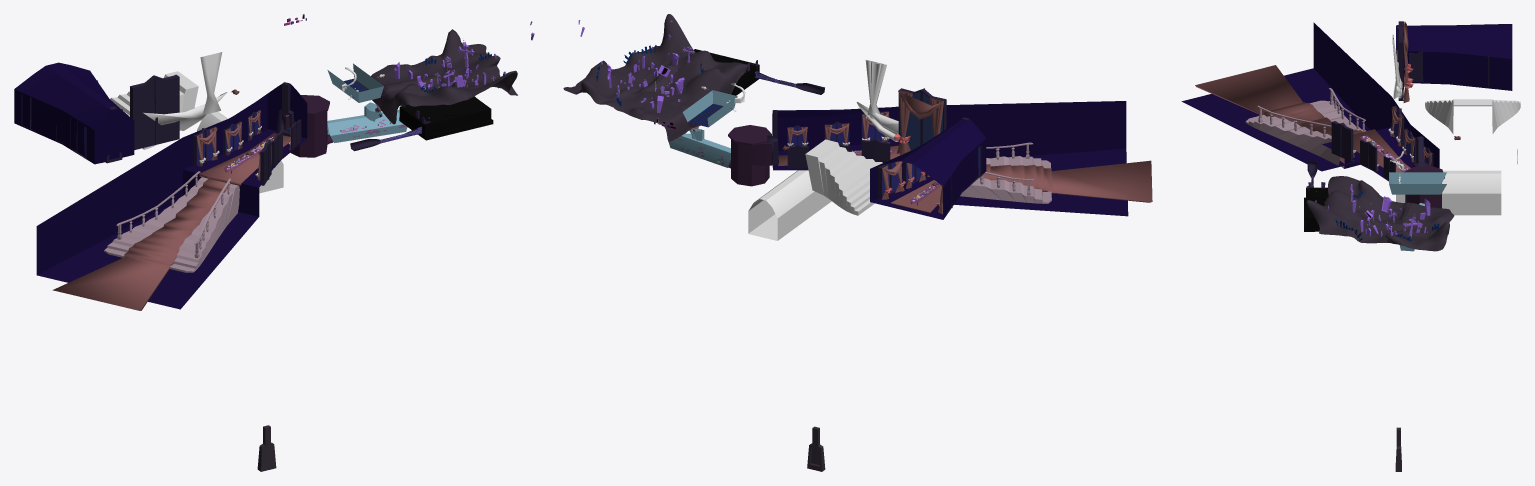
Rendered from tokotoko_no_stairs_3FBX.fbx.
The picture shows the model from 3 angles, left to right: view 1: azimuth 30°, elevation 25°; view 2: azimuth 150°, elevation 25°; view 3: azimuth 270°, elevation 25°; orthographic projection. The views are drawn at different scales.
Visible parts, largest first — view 1: ÄLÄPOSITATÄTÄVITTU, entire_diningroom', table.001where toeat.004, graveyardÄLÄPOSTAAAAAAA, Cube, Cube.108, Cube.055, Cube.007, table.001where toeat.003, Cylinder.002, table.001where toeat.002, roomkitchen_jic (+5 smaller); view 2: ÄLÄPOSITATÄTÄVITTU, graveyardÄLÄPOSTAAAAAAA, entire_diningroom', table.001where toeat.004, Cube.018, table.001where toeat.001, Cube.108, Cube, Cylinder.002, table.001where toeat.002, Cube.007, roomkitchen_jic (+2 smaller); view 3: ÄLÄPOSITATÄTÄVITTU, graveyardÄLÄPOSTAAAAAAA, entire_diningroom', table.001where toeat.004, Cube, table.001where toeat.001, Cube.018, table.001where toeat.002, roomkitchen_jic, table.001where toeat.003, Cube.108, Cylinder.002 (+1 smaller).
Part boxes in pixels (left/top/right/bottom): ÄLÄPOSITATÄTÄVITTU: left=36, top=82, right=307, bottom=309; entire_diningroom': left=14, top=62, right=134, bottom=164; table.001where toeat.004: left=52, top=133, right=290, bottom=310; graveyardÄLÄPOSTAAAAAAA: left=371, top=21, right=534, bottom=124; Cube: left=104, top=171, right=239, bottom=272; Cube.108: left=130, top=74, right=179, bottom=149; Cube.055: left=399, top=96, right=491, bottom=136; Cube.007: left=327, top=102, right=407, bottom=142; table.001where toeat.003: left=193, top=110, right=261, bottom=166; Cylinder.002: left=285, top=95, right=332, bottom=157; table.001where toeat.002: left=255, top=119, right=301, bottom=185; roomkitchen_jic: left=327, top=63, right=383, bottom=102; ÄLÄPOSITATÄTÄVITTU: left=767, top=101, right=1128, bottom=216; graveyardÄLÄPOSTAAAAAAA: left=563, top=14, right=747, bottom=141; entire_diningroom': left=870, top=117, right=986, bottom=219; table.001where toeat.004: left=778, top=145, right=1152, bottom=202; Cube.018: left=805, top=139, right=882, bottom=215; table.001where toeat.001: left=748, top=170, right=831, bottom=240; Cube.108: left=894, top=88, right=946, bottom=154; Cube: left=960, top=142, right=1051, bottom=203; Cylinder.002: left=728, top=125, right=771, bottom=186; table.001where toeat.002: left=787, top=111, right=889, bottom=149; Cube.007: left=668, top=128, right=730, bottom=167; roomkitchen_jic: left=682, top=90, right=737, bottom=127; ÄLÄPOSITATÄTÄVITTU: left=1181, top=22, right=1439, bottom=181; graveyardÄLÄPOSTAAAAAAA: left=1307, top=176, right=1454, bottom=251; entire_diningroom': left=1395, top=24, right=1512, bottom=90; table.001where toeat.004: left=1195, top=65, right=1410, bottom=172; Cube: left=1245, top=88, right=1365, bottom=165; table.001where toeat.001: left=1396, top=170, right=1501, bottom=215; Cube.018: left=1425, top=99, right=1520, bottom=133; table.001where toeat.002: left=1331, top=121, right=1395, bottom=179; roomkitchen_jic: left=1389, top=172, right=1446, bottom=194; table.001where toeat.003: left=1388, top=105, right=1433, bottom=166; Cube.108: left=1397, top=21, right=1413, bottom=102; Cylinder.002: left=1404, top=164, right=1444, bottom=208.
Bounding box in the file's own units: 84878 × 65241 × 49919.
